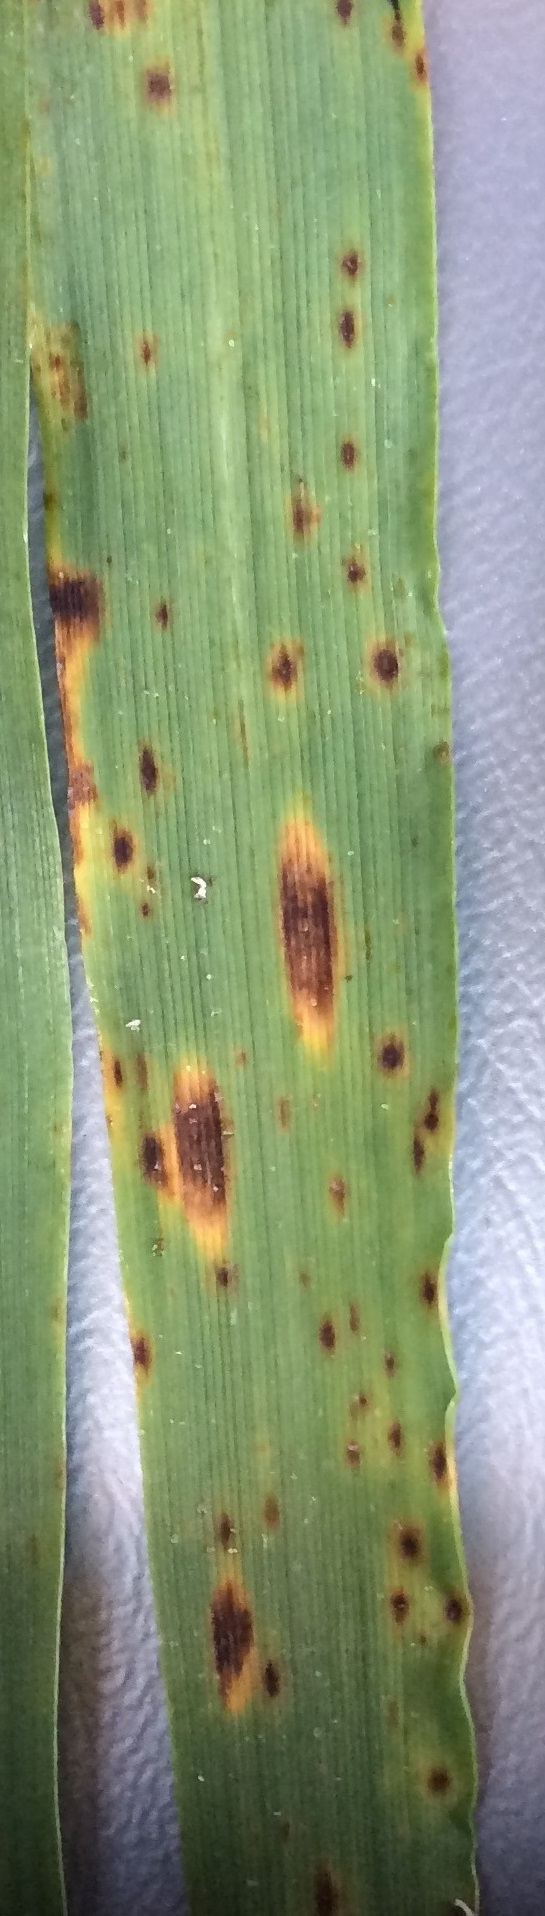Bercak Coklat: (262, 832, 351, 1026), (167, 1053, 236, 1223), (198, 1573, 255, 1708), (42, 565, 104, 646), (128, 54, 189, 114), (134, 1125, 174, 1202), (266, 635, 309, 705), (360, 635, 409, 692), (364, 1020, 412, 1078), (324, 229, 369, 283), (281, 486, 326, 540), (141, 588, 185, 643), (253, 1648, 288, 1714), (128, 737, 166, 798), (101, 820, 141, 877), (78, 2, 156, 31), (329, 294, 360, 356), (378, 1580, 414, 1631), (389, 1520, 428, 1565), (336, 544, 371, 589), (309, 1310, 342, 1358), (327, 434, 363, 478), (411, 1261, 441, 1310), (400, 1129, 431, 1176), (419, 1079, 444, 1136), (424, 1438, 453, 1486), (213, 1508, 242, 1554), (379, 1416, 409, 1459), (130, 1329, 156, 1375), (103, 1046, 127, 1092), (214, 1250, 235, 1300), (442, 1592, 466, 1635)
